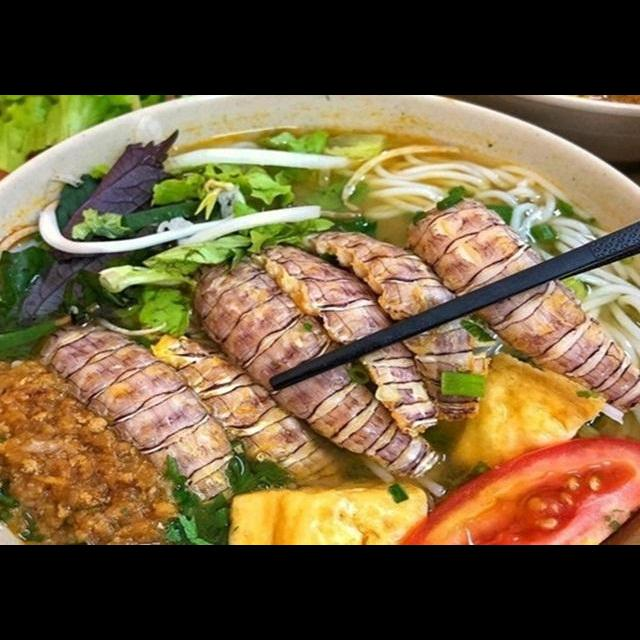bun: (76, 422, 610, 530), (480, 329, 640, 425)
dau hu: (19, 388, 280, 484), (0, 264, 42, 384)
tom tit: (27, 241, 470, 392), (140, 364, 556, 510), (94, 278, 487, 392), (0, 155, 343, 279), (126, 306, 505, 418), (0, 220, 334, 335)
